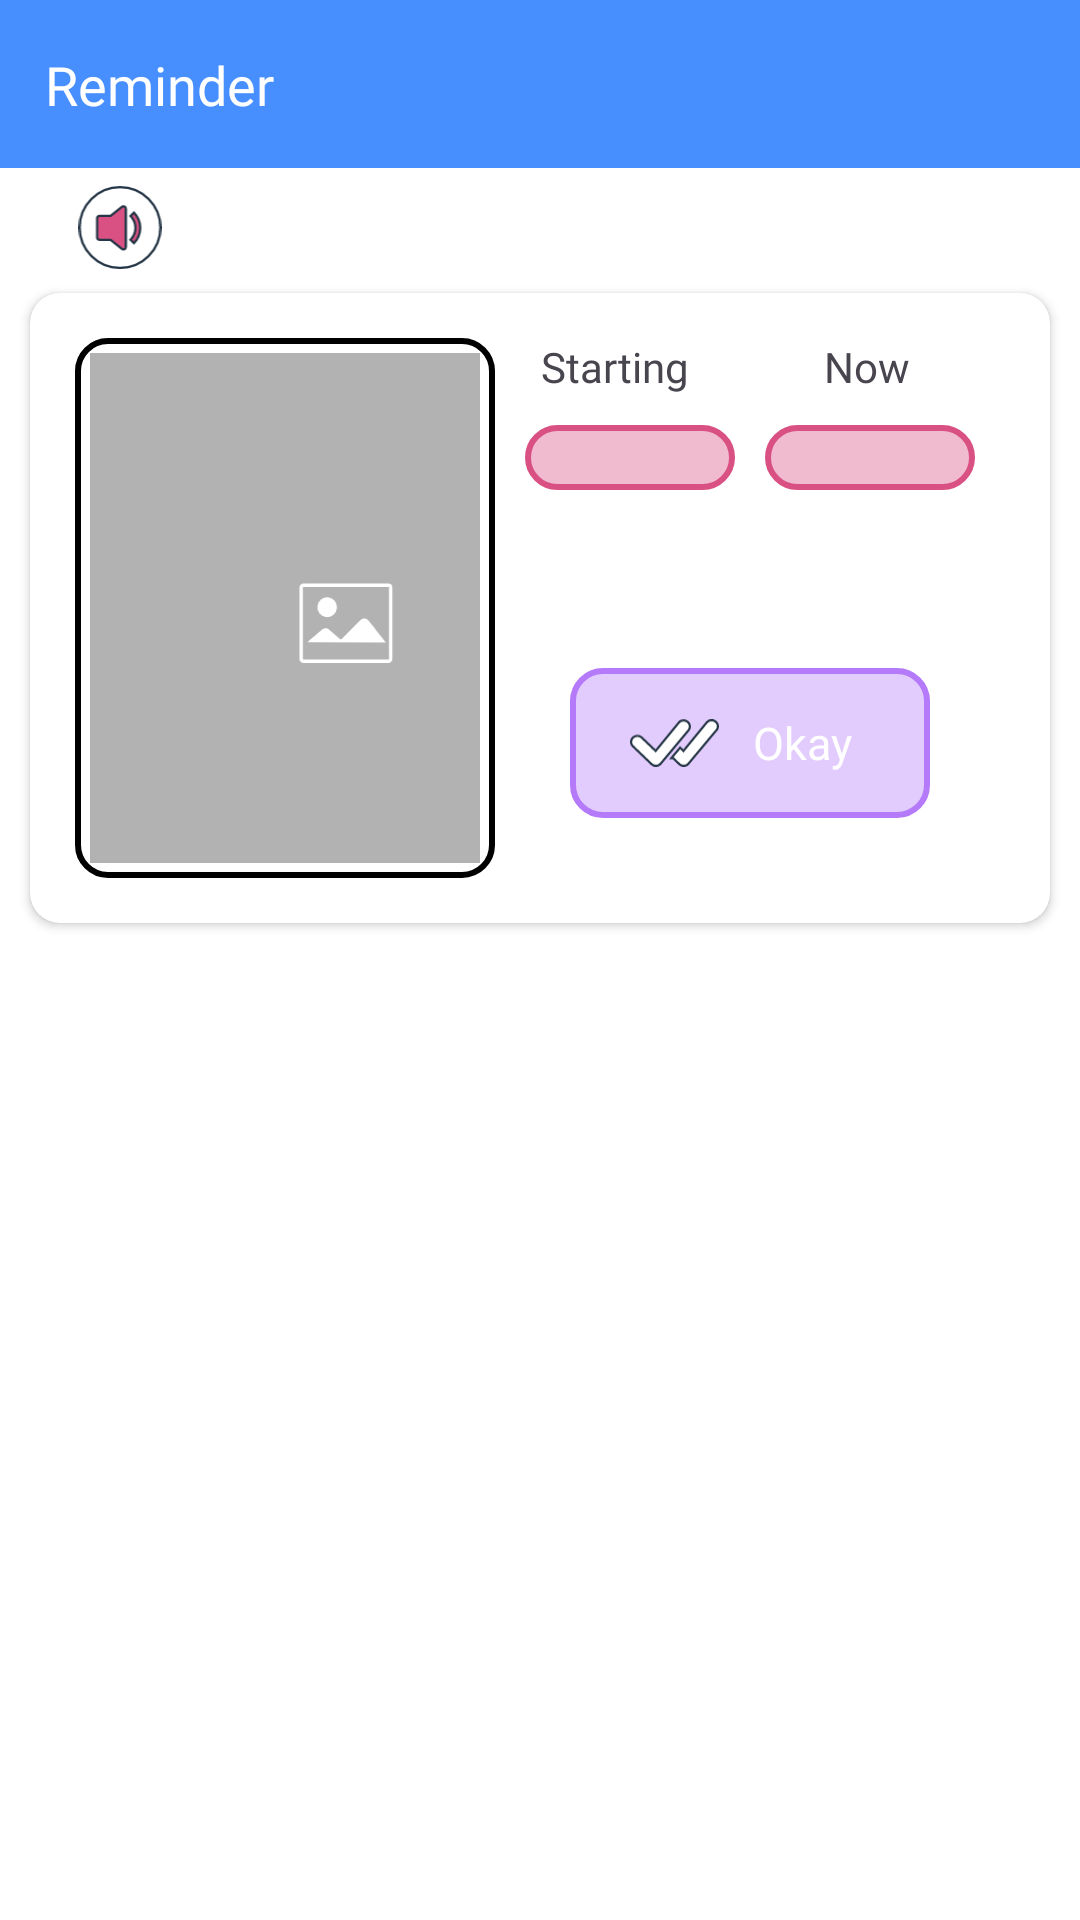

Icon bounding boxes for this 1080*1920 phone screenshot, format (x1, y1, x2, y2):
done: (630, 719, 719, 767)
voice: (78, 186, 162, 269)
